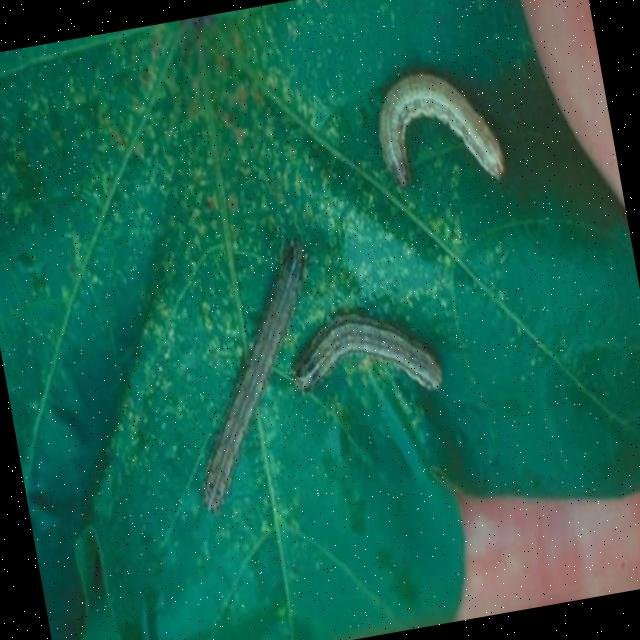worm: (160, 238, 351, 518), (368, 60, 509, 203), (281, 299, 446, 419)
